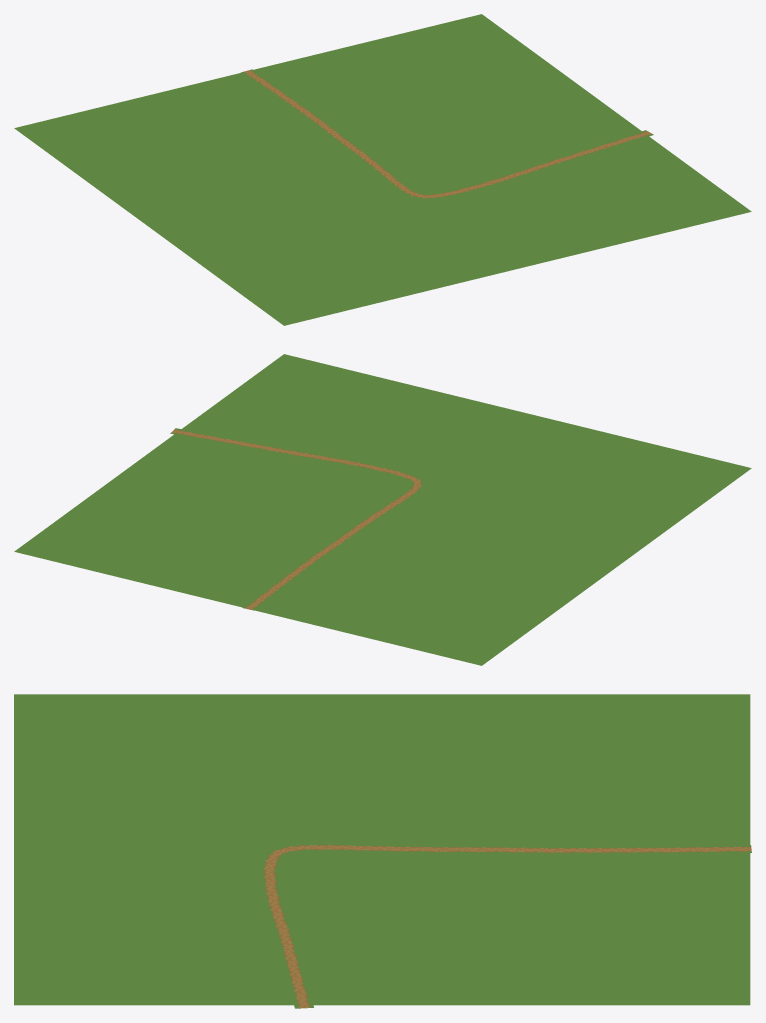
The model's file is path_intro1e.fbx.
The picture shows the model from 3 angles, top to bottom: view 1: azimuth 30°, elevation 25°; view 2: azimuth 150°, elevation 25°; view 3: azimuth 270°, elevation 25°; orthographic projection. The views are drawn at different scales.
Parts seen in each view (by area): view 1: groundPlaneBase, pathBase_lvl1.001; view 2: groundPlaneBase, pathBase_lvl1.001; view 3: groundPlaneBase, pathBase_lvl1.001.
Part boxes in pixels (x1=…): groundPlaneBase: x1=14, y1=14, x2=751, y2=325; pathBase_lvl1.001: x1=240, y1=69, x2=653, y2=199; groundPlaneBase: x1=14, y1=354, x2=751, y2=665; pathBase_lvl1.001: x1=170, y1=428, x2=424, y2=610; groundPlaneBase: x1=14, y1=694, x2=750, y2=1005; pathBase_lvl1.001: x1=260, y1=843, x2=751, y2=1008.
Bounding box in the file's own units: 4629 × 0.8149 × 4588.
